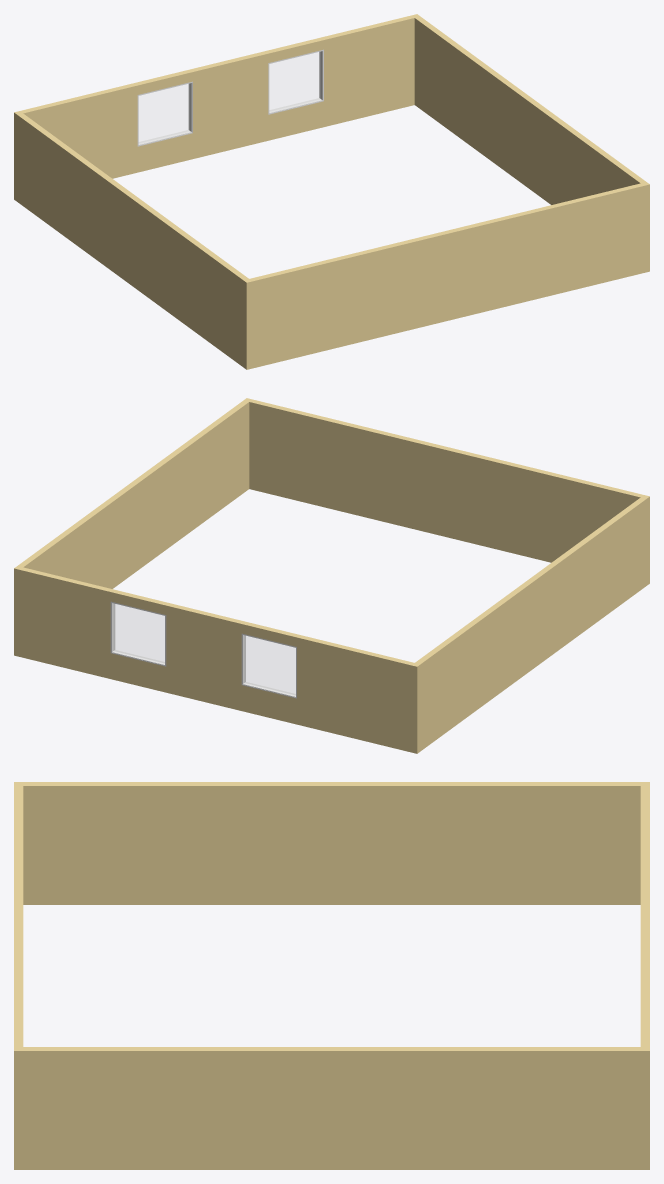
File: pdp6_room.FBX
3 renders of one model, top to bottom at view 1: azimuth 30°, elevation 25°; view 2: azimuth 150°, elevation 25°; view 3: azimuth 270°, elevation 25°, orthographic. The views are drawn at different scales.
Parts seen in each view (by area): view 1: Wall001, FixedWindow001, FixedWindow002; view 2: Wall001, FixedWindow001, FixedWindow002; view 3: Wall001.
Boxes of the visible parts, bbox=[...] form: Wall001: bbox=[14, 14, 649, 369]; FixedWindow001: bbox=[268, 49, 323, 114]; FixedWindow002: bbox=[137, 81, 192, 146]; Wall001: bbox=[14, 398, 649, 753]; FixedWindow001: bbox=[110, 601, 166, 666]; FixedWindow002: bbox=[241, 633, 296, 698]; Wall001: bbox=[14, 782, 649, 1169].
Size of the model in its own units: 1030 by 1030 by 213.
